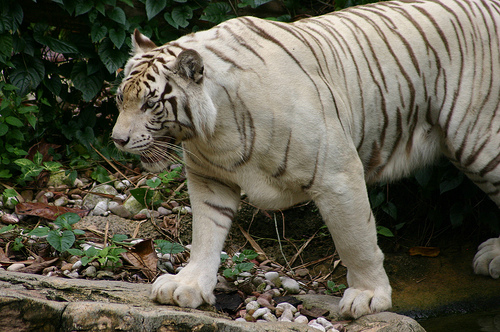Tigre: (88, 43, 355, 212)
